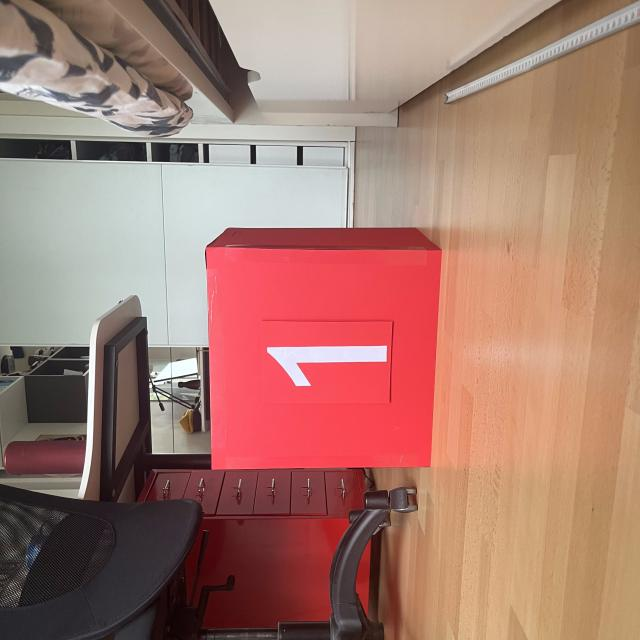box: (200, 222, 444, 470)
